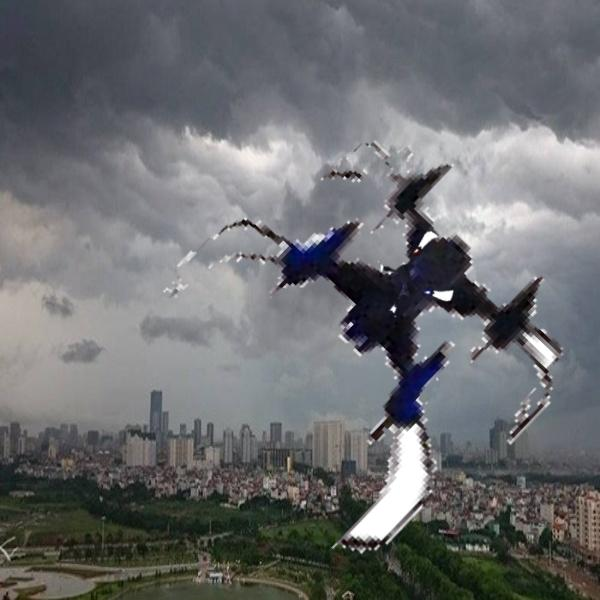drone: (167, 126, 571, 530), (375, 236, 458, 319)
